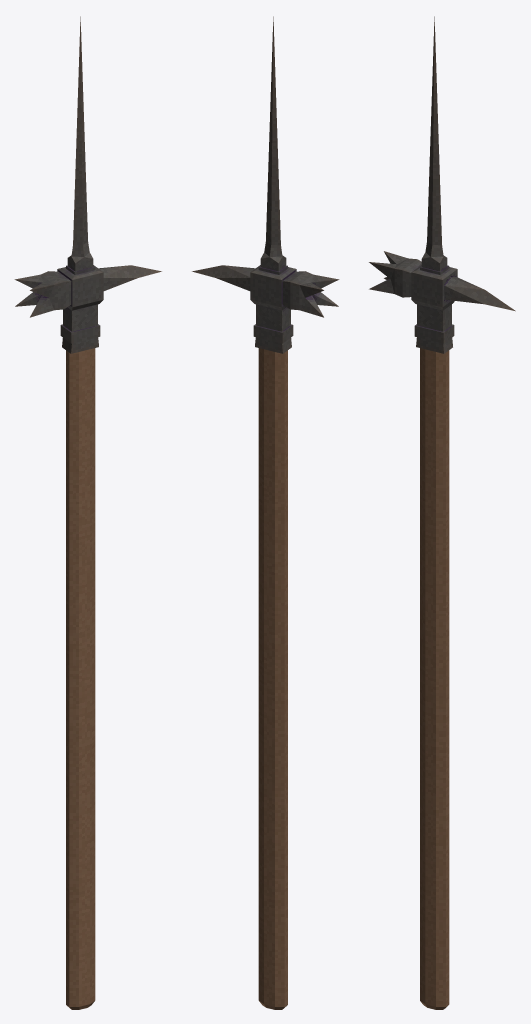
Rendered from LucerneHead.gltf.
3 renders of one model, left to right at view 1: azimuth 30°, elevation 25°; view 2: azimuth 150°, elevation 25°; view 3: azimuth 330°, elevation 25°, orthographic.
Visible parts, largest first — view 1: cylinder, plane; view 2: cylinder, plane; view 3: cylinder, plane.
Boxes of the visible parts, x1,y1,x2,y2 form: cylinder: [66, 348, 95, 1009]; plane: [14, 16, 161, 353]; cylinder: [258, 348, 287, 1009]; plane: [192, 16, 339, 353]; cylinder: [420, 348, 449, 1009]; plane: [369, 16, 515, 353].
Size of the model in its own units: 1.68 by 11.36 by 0.3125.
Materials: 1 (1 with a texture image).
